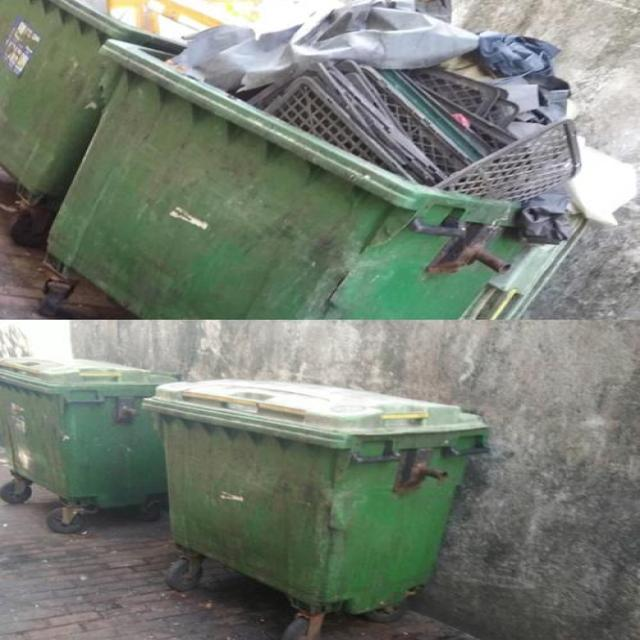garbage_bin: (142, 379, 486, 613), (0, 354, 175, 506)
overflow: (49, 3, 635, 316)
